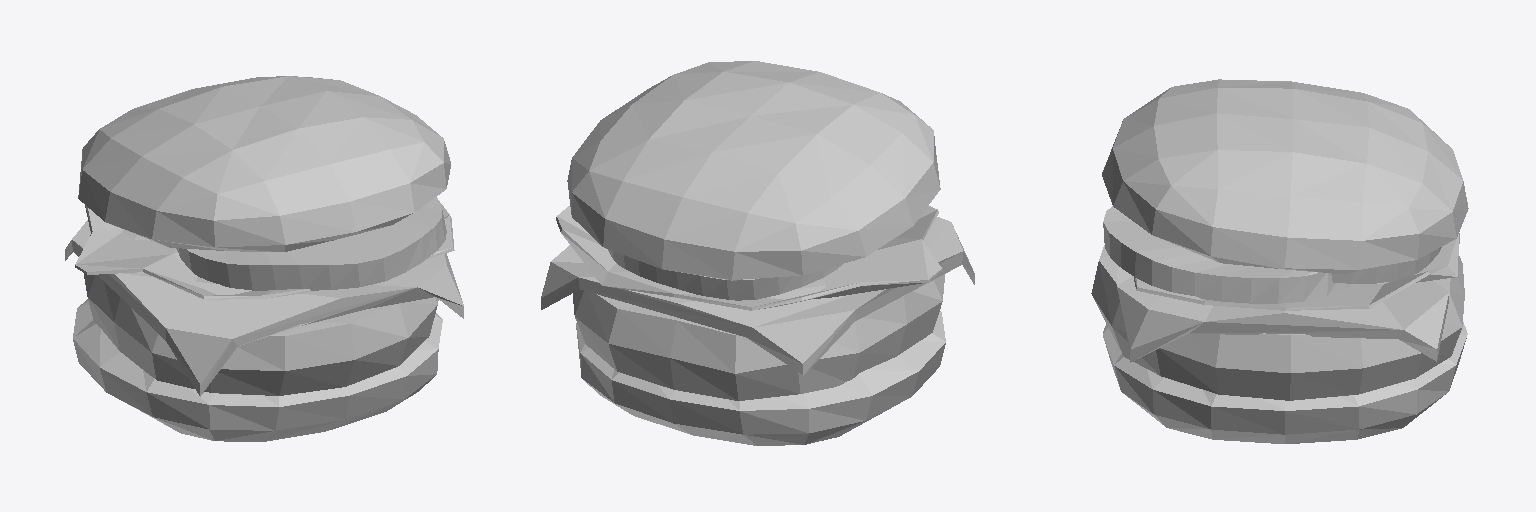
Rendered from Burger_Topping.obj.
The picture shows the model from 3 angles: view 1: azimuth 30°, elevation 25°; view 2: azimuth 150°, elevation 25°; view 3: azimuth 270°, elevation 25°; orthographic projection.
Visible parts, largest first — view 1: Burger; view 2: Burger; view 3: Burger.
Boxes of the visible parts, <box> form: Burger: <box>65,76,463,441</box>; Burger: <box>541,61,974,445</box>; Burger: <box>1091,79,1468,443</box>.
Size of the model in its own units: 1.79 by 1.47 by 1.7.